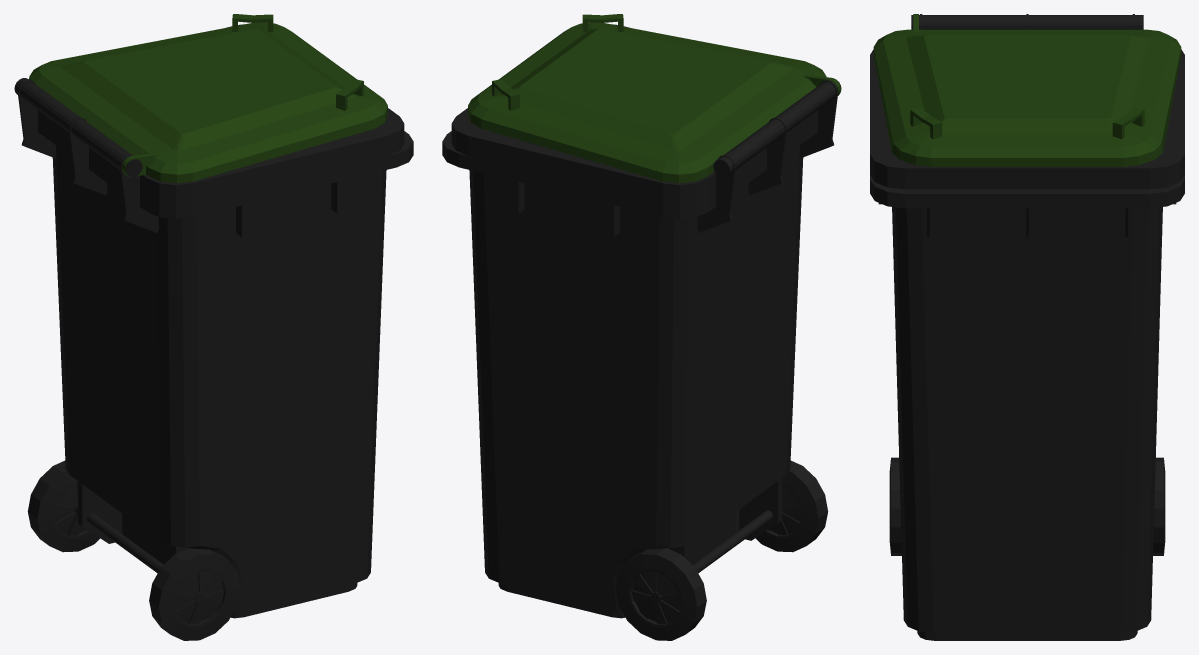
Rendered from Kliko.fbx.
3 views of the same model, side by side, from view 1: azimuth 30°, elevation 25°; view 2: azimuth 150°, elevation 25°; view 3: azimuth 270°, elevation 25° (orthographic). The views are drawn at different scales.
Parts seen in each view (by area): view 1: Kliko; view 2: Kliko; view 3: Kliko.
Part boxes in pixels (x1,y1,x2,y2): Kliko: (14,14,413,640); Kliko: (442,14,841,640); Kliko: (870,14,1184,640).
Bounding box in the file's own units: 68.6 × 117 × 63.96.
